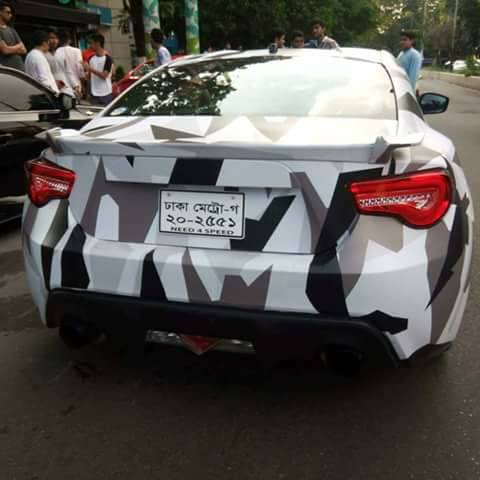registration_plate: (157, 188, 246, 240)
